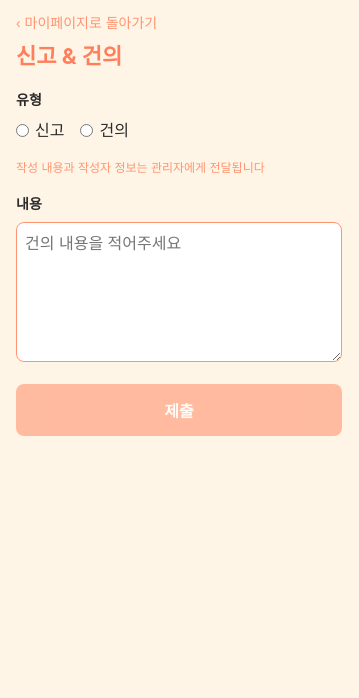
Scenario: Report › 서버 400이면 백엔드 문구를 그대로 표시
The image size is (359, 698).
Click the radio button labelled "신고" at [22, 130], box [16, 124, 29, 136]
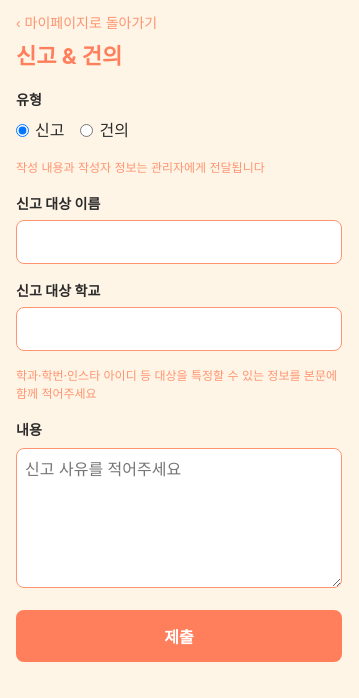
Type "사유" into the text box labelled "내용" at [179, 518], box [16, 448, 342, 588]
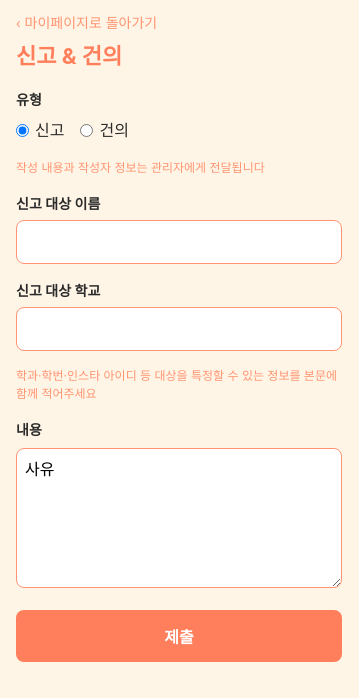
Click the button "제출" at [179, 636], box [16, 610, 342, 662]
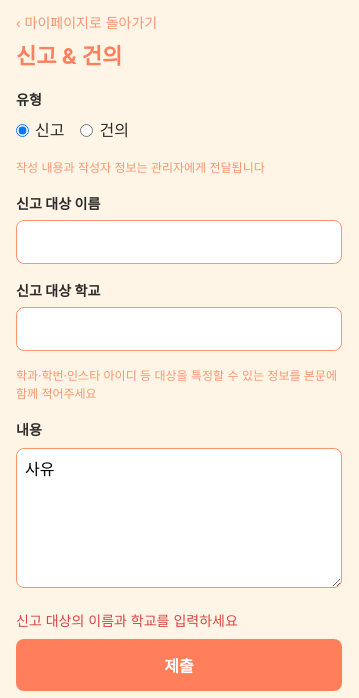
expect the text "신고 대상의 이름과 학교를 입력하세요" is shown: met, box [16, 612, 238, 628]
